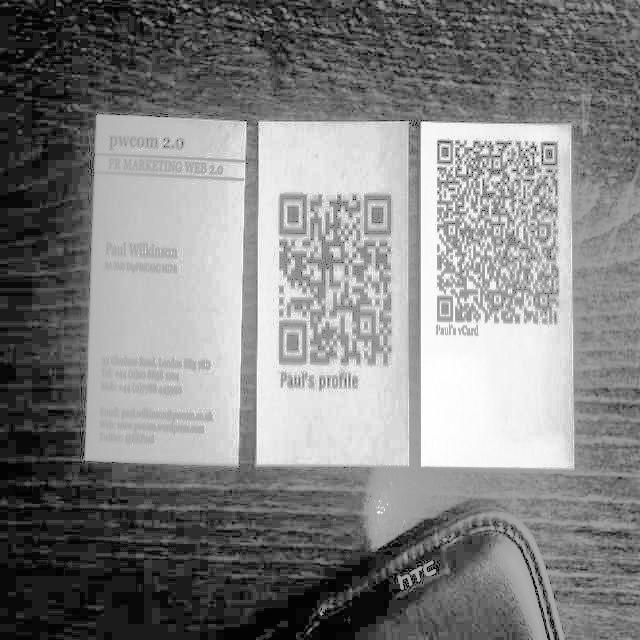qr_code: (437, 140, 559, 322), (279, 195, 391, 364)
